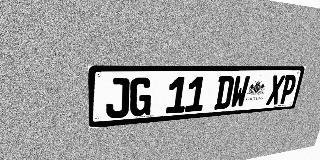1: (166, 77, 188, 114), (185, 76, 207, 112)
D: (214, 76, 235, 110)
G: (129, 77, 153, 117)
J: (106, 78, 130, 119)
P: (278, 75, 298, 104)
W: (230, 76, 250, 108)
X: (266, 75, 285, 105)
